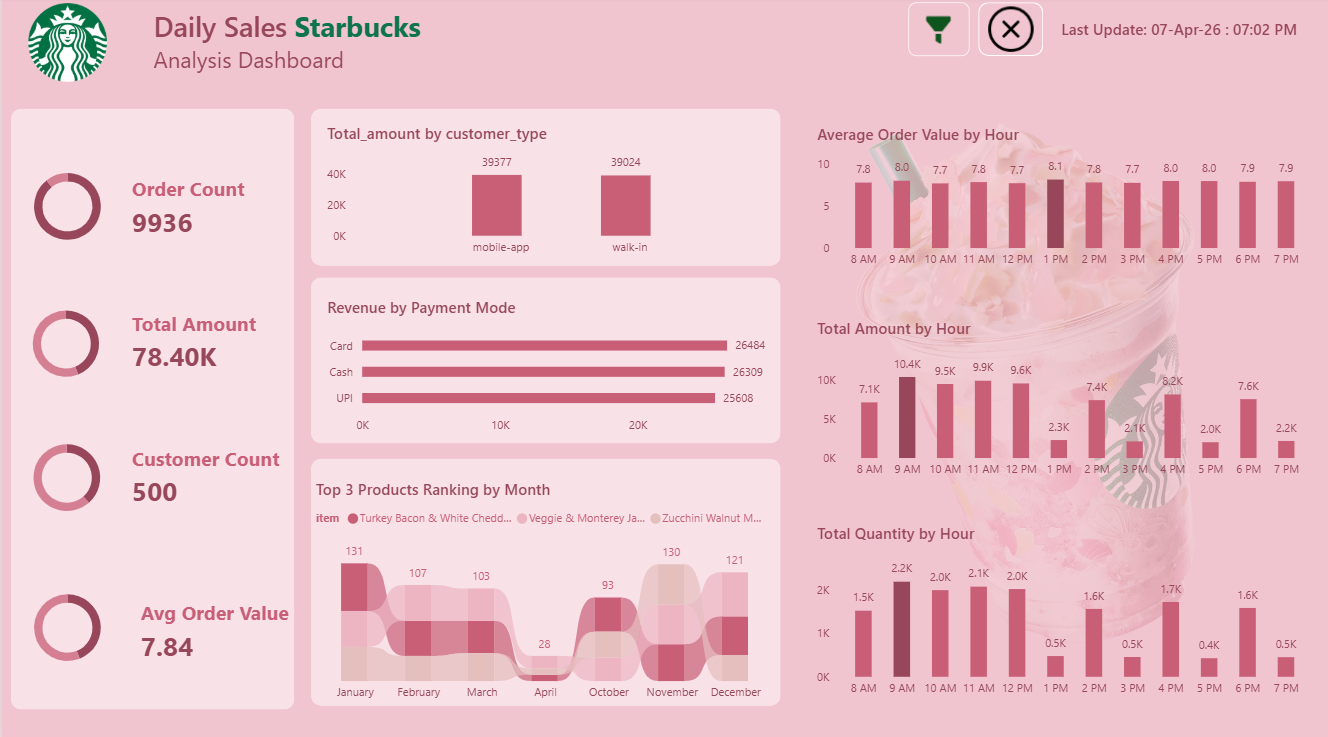

The page's visual inventory and layout, read from the dashboard file:
{"tool":"powerbi","page":{"name":"Overview","canvas":[1280,720],"ordinal":1},"visuals":[{"type":"shape","box":[298,108.6,453.6,152],"z":0},{"type":"shape","box":[298,446.4,453.6,238.9],"z":1000},{"type":"shape","box":[298,271.4,453.6,160.5],"z":2000},{"type":"shape","box":[8.4,108.6,273.9,580.3],"z":3000},{"type":"image","box":[25.3,6,76,77.2],"z":4000},{"type":"textbox","box":[141.2,6,334.2,77.2],"z":5000},{"type":"cardVisual","fields":{"Data":["Table.Order_count"]},"box":[108.6,158,173.7,91.7],"z":6000},{"type":"cardVisual","fields":{"Data":["Table.Total_amount"]},"box":[108.6,289.5,189.4,88.1],"z":7000},{"type":"cardVisual","fields":{"Data":["Table.Customer_count"]},"box":[108.6,419.8,189.4,88.1],"z":8000},{"type":"cardVisual","fields":{"Data":["Table.Avg_Order_Value"]},"box":[117,564.6,181,96.5],"z":9000},{"type":"donutChart","fields":{"Y":["Table.Order_count","Table.Total_order_Target"]},"box":[18.1,158,90.5,90.5],"z":10000},{"type":"donutChart","fields":{"Y":["Table.Total_amount","Table.Total_amount_target"]},"box":[16.9,290.8,90,90],"z":11000},{"type":"donutChart","fields":{"Y":["Table.Avg_Order_Value","Table.Avg_Ordervalue_Target"]},"box":[18.1,564.6,90.5,90.5],"z":12000},{"type":"donutChart","fields":{"Y":["Table.Customer_count","Table.Customer_Target"]},"box":[16.9,419.8,91.7,90.5],"z":13000},{"type":"image","box":[824,94.1,326.9,561],"z":14000},{"type":"clusteredColumnChart","title":"Average Order Value by Hour","fields":{"Y":["Table.Avg_Order_Value"],"Category":["Calender.Hour"]},"box":[781.8,123.1,486.2,148.4],"z":15000},{"type":"clusteredColumnChart","title":"Total Amount by Hour","fields":{"Y":["Table.Total_amount"],"Category":["Calender.Hour"]},"box":[781.8,310.1,486.2,164.1],"z":16000},{"type":"clusteredColumnChart","title":"Total Quantity by Hour","fields":{"Y":["Table.Total_quantity"],"Category":["Calender.Hour"]},"box":[781.8,507.9,486.2,177.3],"z":17000},{"type":"cardVisual","fields":{"Data":["Table.Format_Max_Date"]},"box":[988.1,0,279.9,61.5],"z":18000},{"type":"ribbonChart","title":"Top 3 Products Ranking by Month","fields":{"Category":["Calender.datetime.Variation.Date Hierarchy.Month"],"Series":["items.item"],"Y":["Sum(sales.quantity)"]},"box":[298,465.7,453.6,223.2],"z":19000},{"type":"barChart","title":"Revenue by Payment Mode","fields":{"Category":["sales.payment_mode"],"Y":["Sum(sales.total_amount)"]},"box":[308.8,289.5,442.8,142.4],"z":20000},{"type":"clusteredColumnChart","fields":{"Category":["sales.customer_type"],"Y":["Table.Total_amount"]},"box":[308.9,122.4,442.4,137.7],"z":21000},{"type":"actionButton","box":[874.7,6,59.1,51.9],"z":23000},{"type":"actionButton","box":[942.2,6,62.7,51.9],"z":24000}]}

Visuals, with their boxes in screenshot pixels (x1, y1, x2, y2), scaled from the page's 1280x720 canvas onto the 1328x737 screenshot:
shape: [left=309, top=111, right=780, bottom=267]
shape: [left=309, top=457, right=780, bottom=701]
shape: [left=309, top=278, right=780, bottom=442]
shape: [left=9, top=111, right=293, bottom=705]
image: [left=26, top=6, right=105, bottom=85]
textbox: [left=146, top=6, right=493, bottom=85]
cardVisual - Table.Order_count: [left=113, top=162, right=293, bottom=256]
cardVisual - Table.Total_amount: [left=113, top=296, right=309, bottom=387]
cardVisual - Table.Customer_count: [left=113, top=430, right=309, bottom=520]
cardVisual - Table.Avg_Order_Value: [left=121, top=578, right=309, bottom=677]
donutChart - Table.Order_count x Table.Total_order_Target: [left=19, top=162, right=113, bottom=254]
donutChart - Table.Total_amount x Table.Total_amount_target: [left=18, top=298, right=111, bottom=390]
donutChart - Table.Avg_Order_Value x Table.Avg_Ordervalue_Target: [left=19, top=578, right=113, bottom=671]
donutChart - Table.Customer_count x Table.Customer_Target: [left=18, top=430, right=113, bottom=522]
image: [left=855, top=96, right=1194, bottom=671]
"Average Order Value by Hour" clusteredColumnChart: [left=811, top=126, right=1316, bottom=278]
"Total Amount by Hour" clusteredColumnChart: [left=811, top=317, right=1316, bottom=485]
"Total Quantity by Hour" clusteredColumnChart: [left=811, top=520, right=1316, bottom=701]
cardVisual - Table.Format_Max_Date: [left=1025, top=0, right=1316, bottom=63]
"Top 3 Products Ranking by Month" ribbonChart: [left=309, top=477, right=780, bottom=705]
"Revenue by Payment Mode" barChart: [left=320, top=296, right=780, bottom=442]
clusteredColumnChart - sales.customer_type x Table.Total_amount: [left=320, top=125, right=779, bottom=266]
actionButton: [left=908, top=6, right=969, bottom=59]
actionButton: [left=978, top=6, right=1043, bottom=59]
